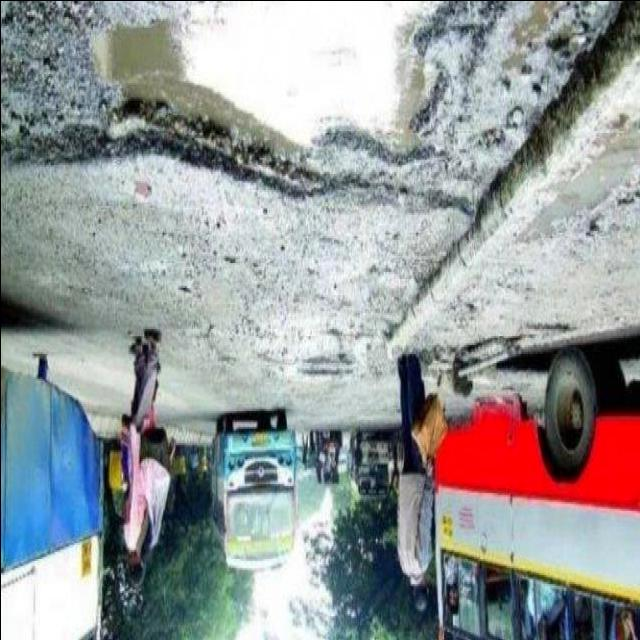jalan retak: (190, 316, 237, 376), (254, 340, 298, 370)
lubang: (1, 8, 461, 235), (332, 0, 478, 229), (516, 154, 640, 250), (446, 0, 517, 157), (485, 1, 568, 93), (316, 313, 372, 363), (298, 350, 358, 384), (524, 311, 574, 341)
